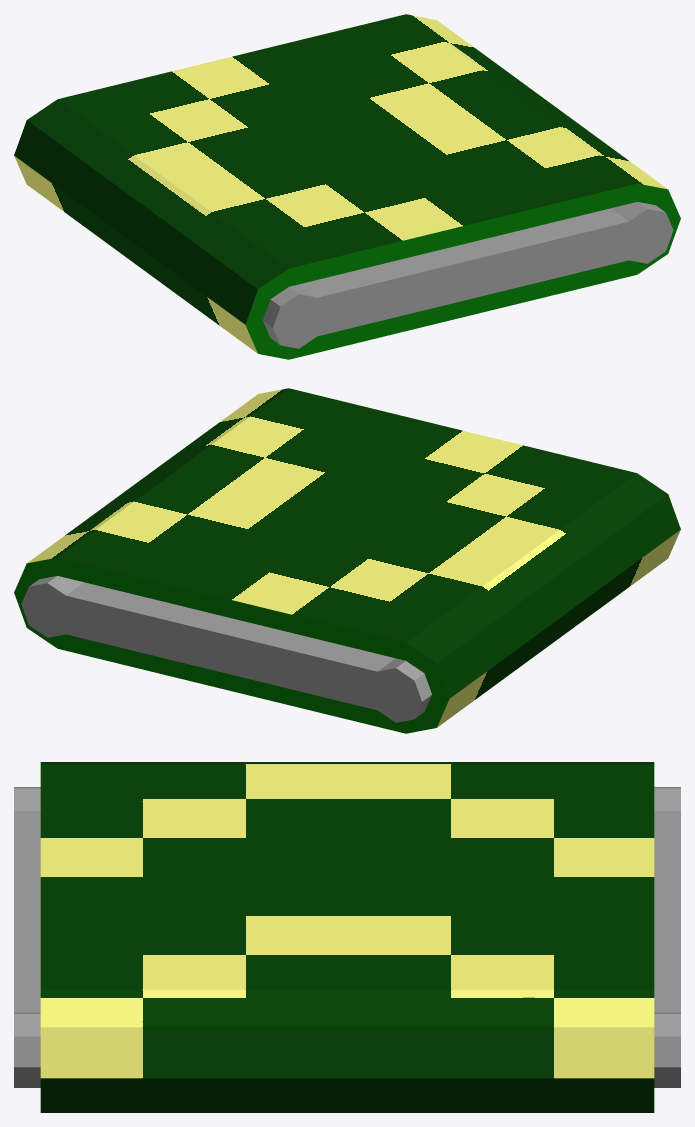
Rendered from conveyorBelt.fbx.
The picture shows the model from 3 angles, top to bottom: view 1: azimuth 30°, elevation 25°; view 2: azimuth 150°, elevation 25°; view 3: azimuth 270°, elevation 25°; orthographic projection. The views are drawn at different scales.
Visible parts, largest first — view 1: conveyorBelt_trigger, conveyorBelt_frame; view 2: conveyorBelt_trigger, conveyorBelt_frame; view 3: conveyorBelt_trigger, conveyorBelt_frame.
Part boxes in pixels (x1,y1,x2,y2): conveyorBelt_trigger: (14,14,680,359); conveyorBelt_frame: (263,202,673,348); conveyorBelt_trigger: (14,388,680,733); conveyorBelt_frame: (21,576,431,722); conveyorBelt_trigger: (40,762,654,1112); conveyorBelt_frame: (14,787,680,1087).
Size of the model in its own units: 500 by 100 by 500.
